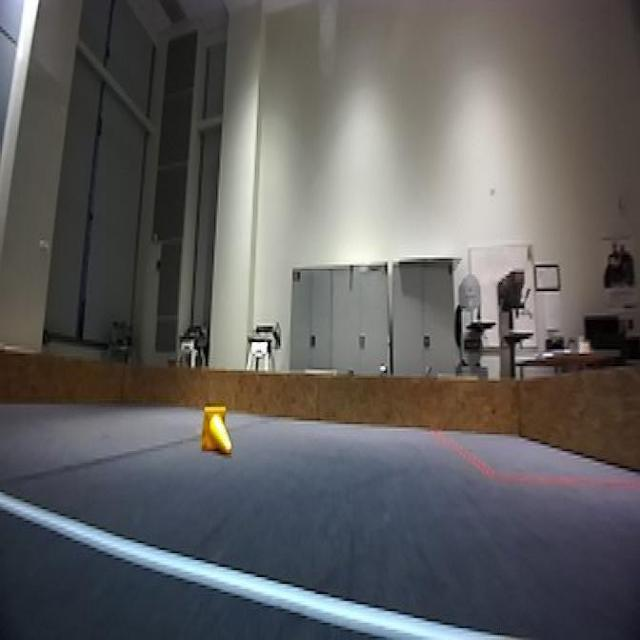frc_cone: (198, 402, 232, 458)
